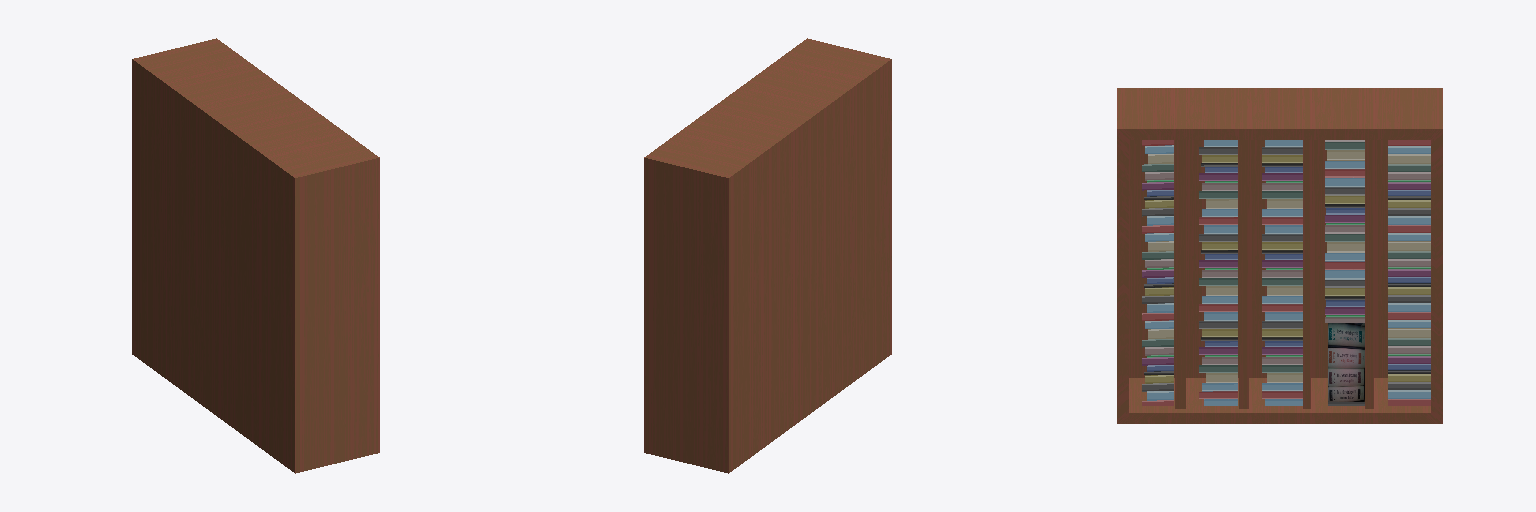
The picture shows the model from 3 angles: view 1: azimuth 30°, elevation 25°; view 2: azimuth 150°, elevation 25°; view 3: azimuth 270°, elevation 25°; orthographic projection.
Visible parts, largest first — view 1: Cube; view 2: Cube; view 3: Cube, Cube.001.
Part boxes in pixels (left/top/right/bottom): Cube: left=132, top=38, right=379, bottom=473; Cube: left=644, top=38, right=891, bottom=473; Cube: left=1117, top=88, right=1442, bottom=423; Cube.001: left=1142, top=140, right=1430, bottom=405.
Size of the model in its own units: 0.6 by 2 by 2.
2 materials, 2 textured.